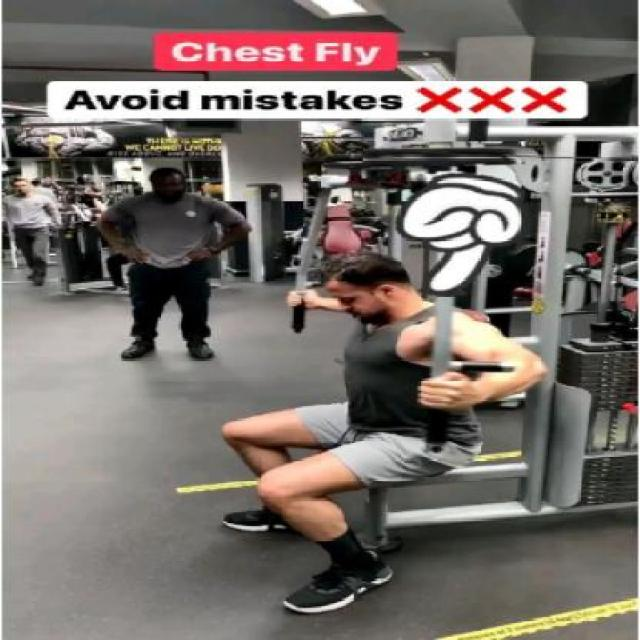chest fly machine: (152, 84, 639, 640)
